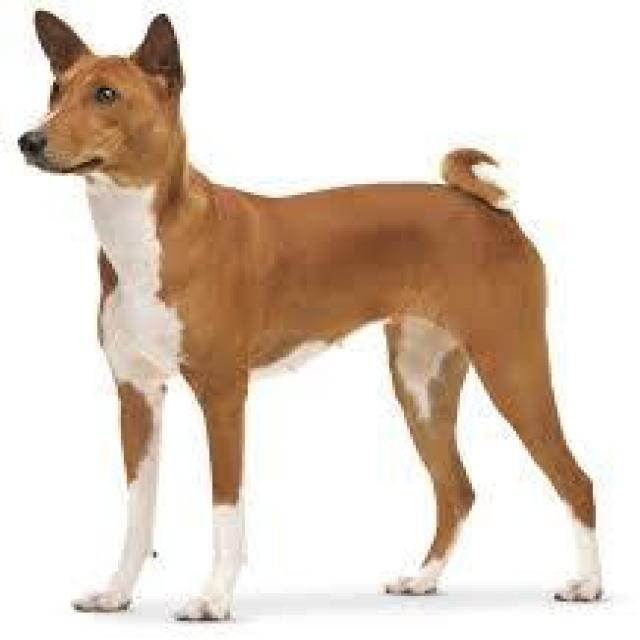Dog: (3, 1, 235, 230)
